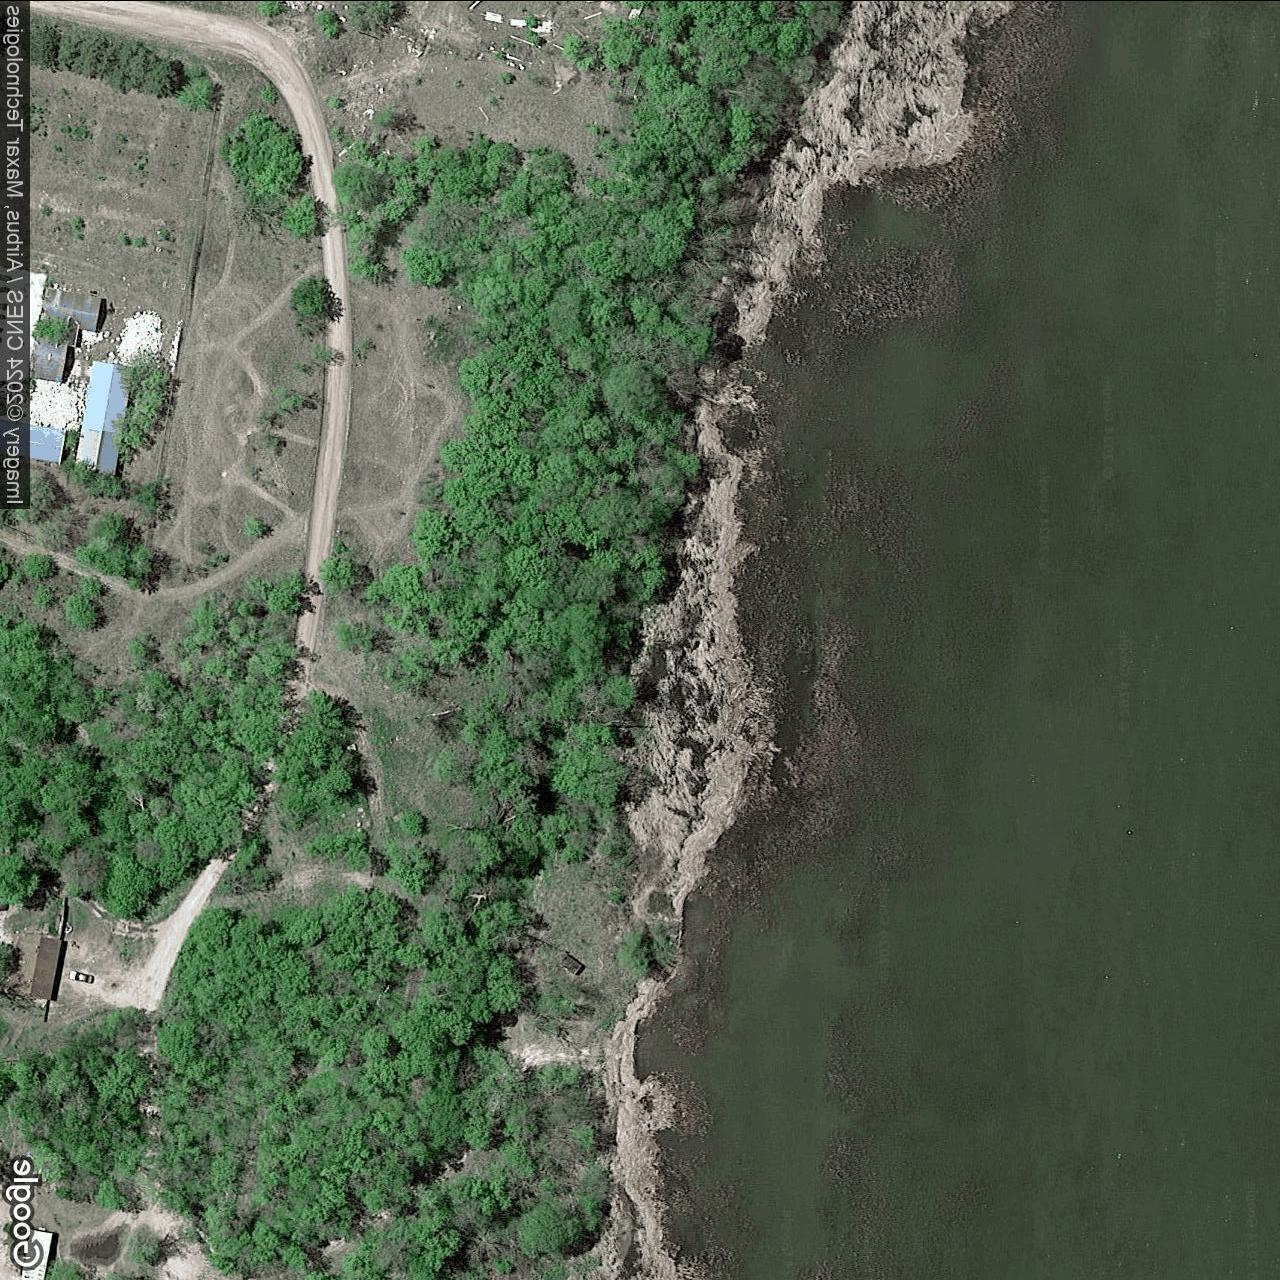Garage: (74, 360, 134, 477)
House: (30, 286, 100, 382), (6, 931, 63, 1001), (20, 1226, 53, 1280), (29, 424, 64, 464)
